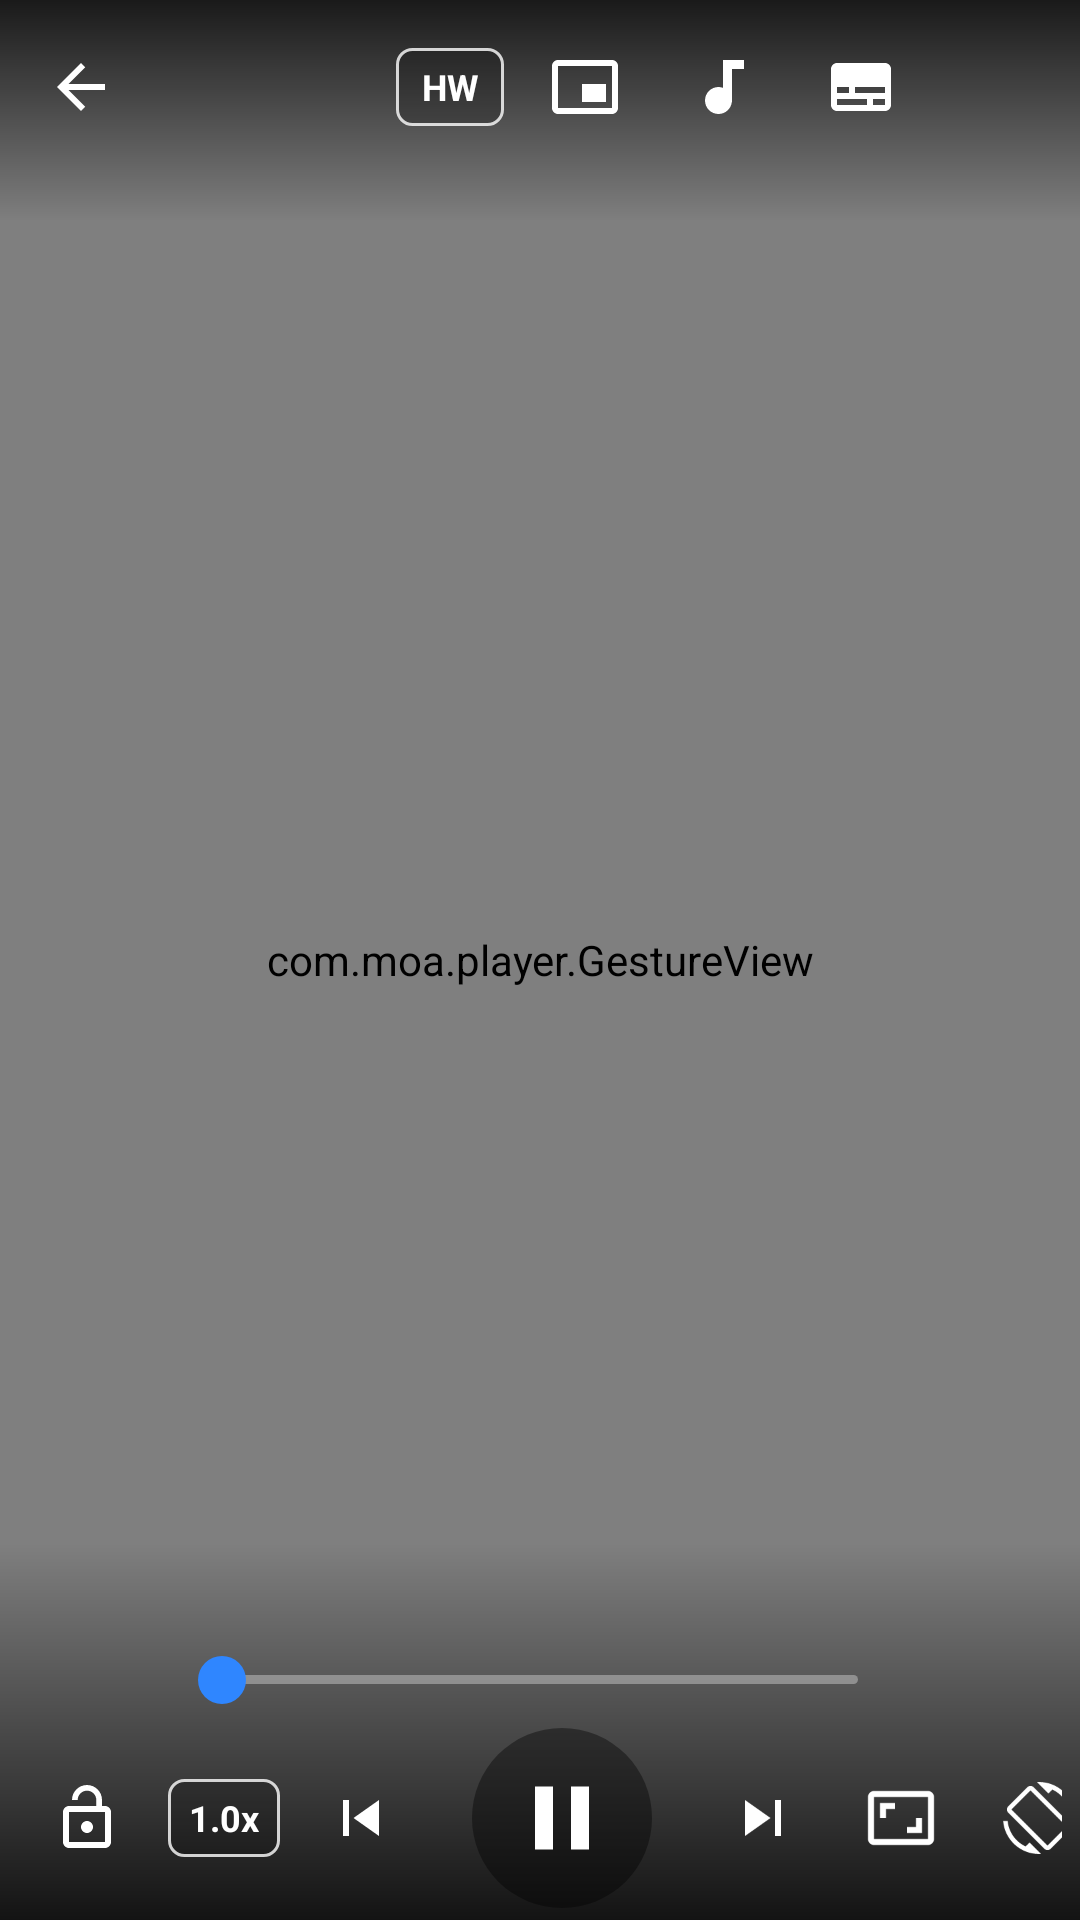

Named icons in this screenshot (1080px×1920px) and their centers, point (x, y):
pause: point (562, 1818)
